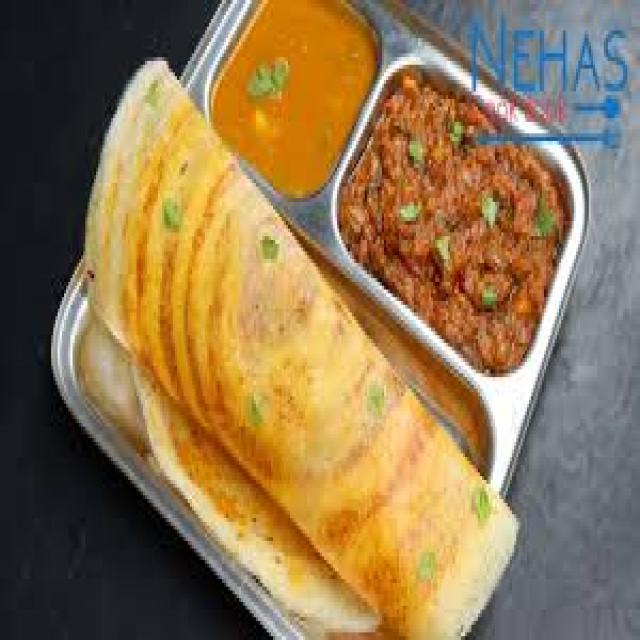Wet Waste: (75, 68, 527, 624)
